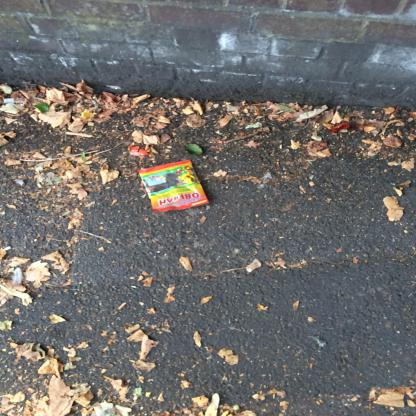plastik: (136, 158, 211, 211)
